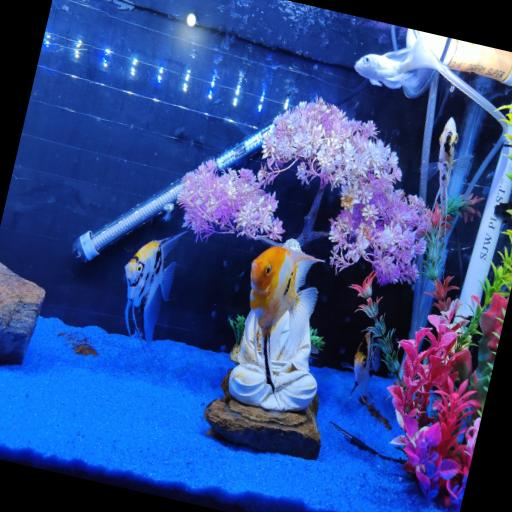Fish: (250, 247, 323, 391), (125, 232, 186, 343), (427, 117, 471, 213), (355, 37, 433, 90), (355, 49, 414, 89), (350, 332, 377, 397)
